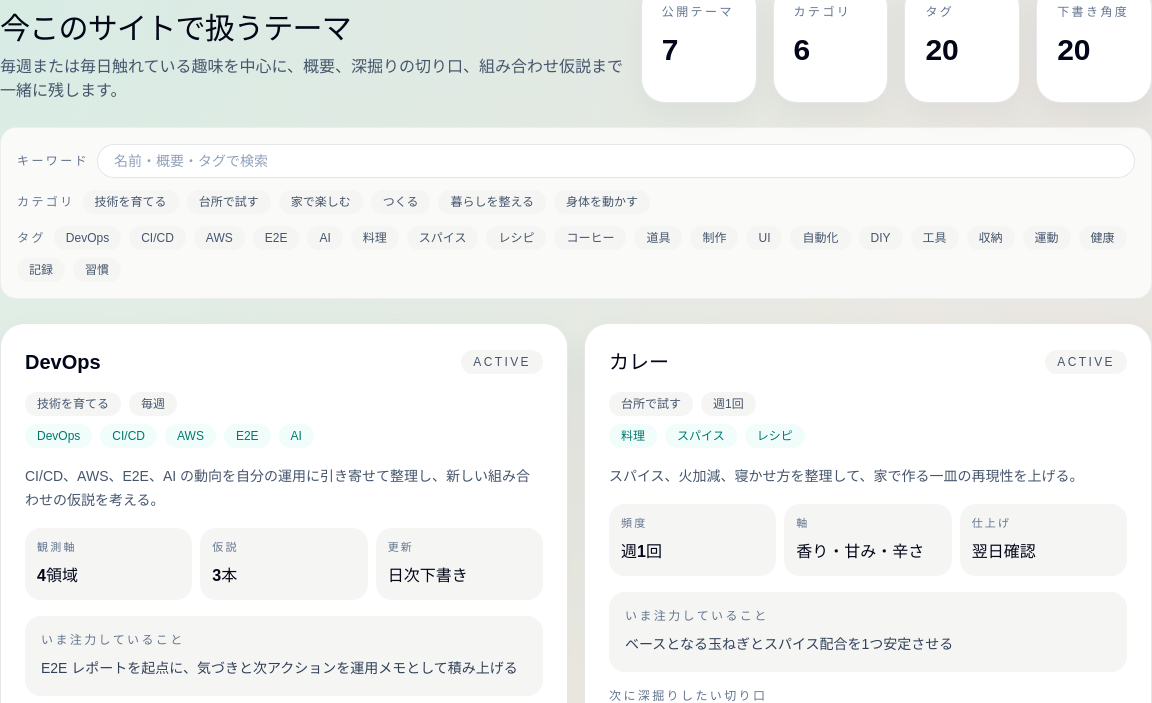
Test case: HobbiesPage › 絞り込みを解除すると全件に戻る
The image size is (1152, 703).
Click the button "身体を動かす": click(602, 202) [554, 190, 650, 214]
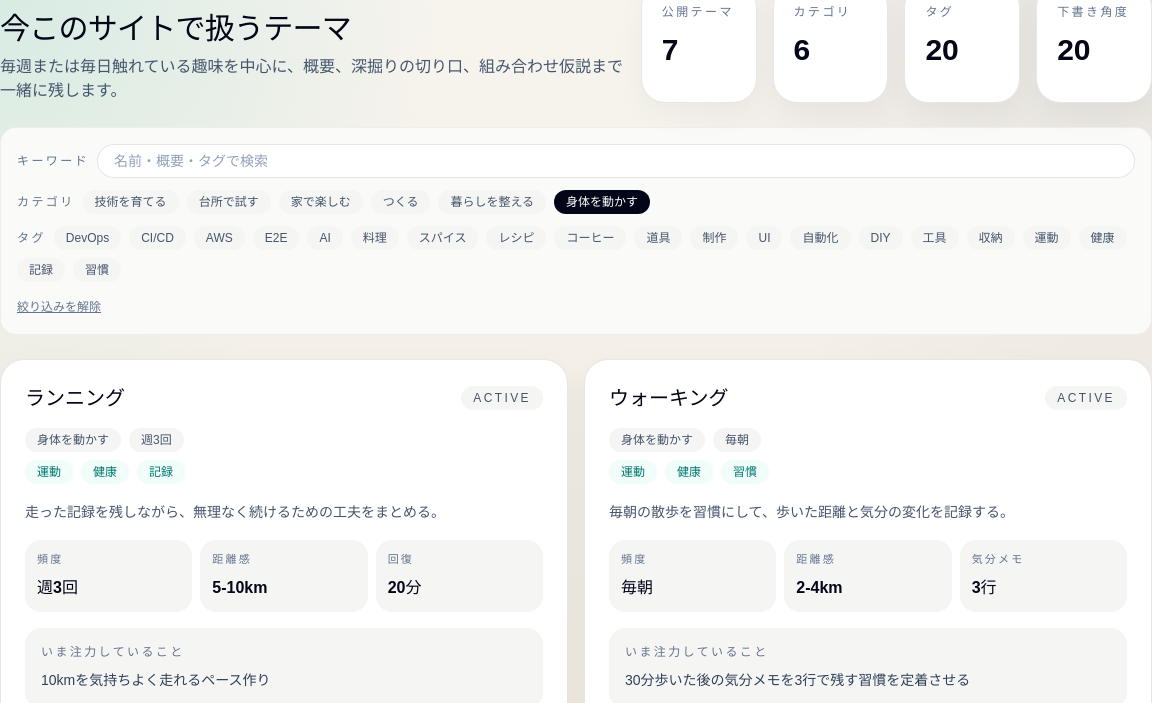
Click the button "絞り込みを解除": click(59, 307) [17, 299, 101, 315]
(page scrolled)
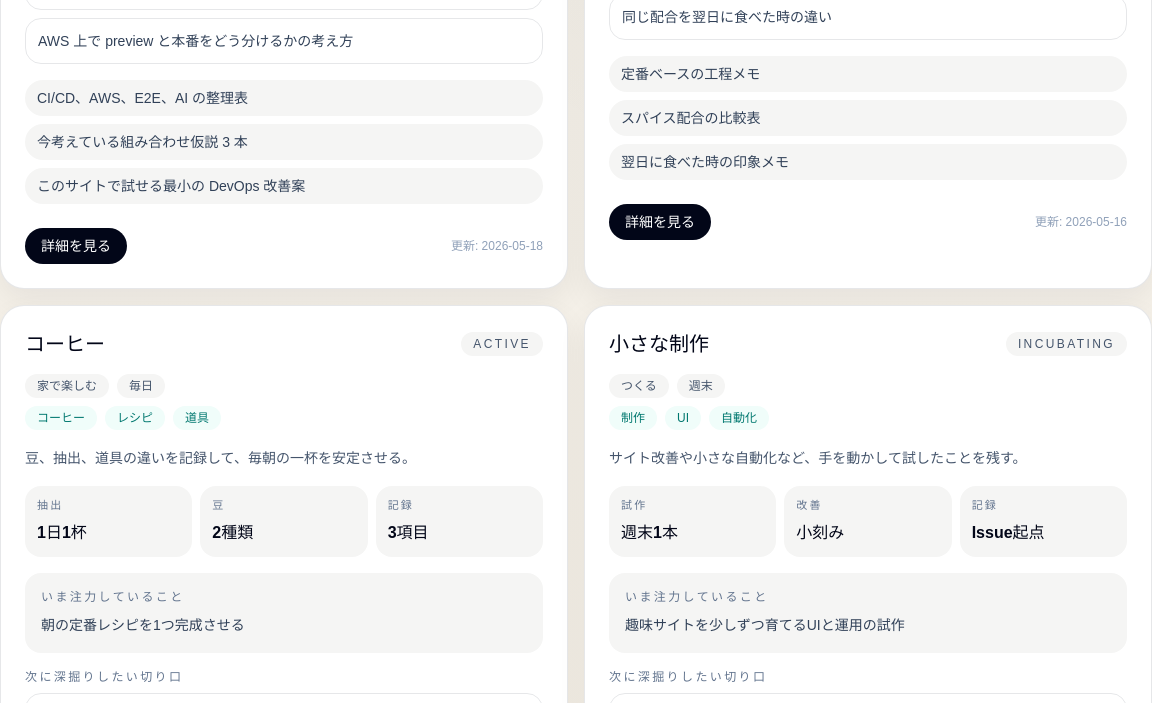
Result: the heading "コーヒー" is shown at [25, 330, 105, 358]
